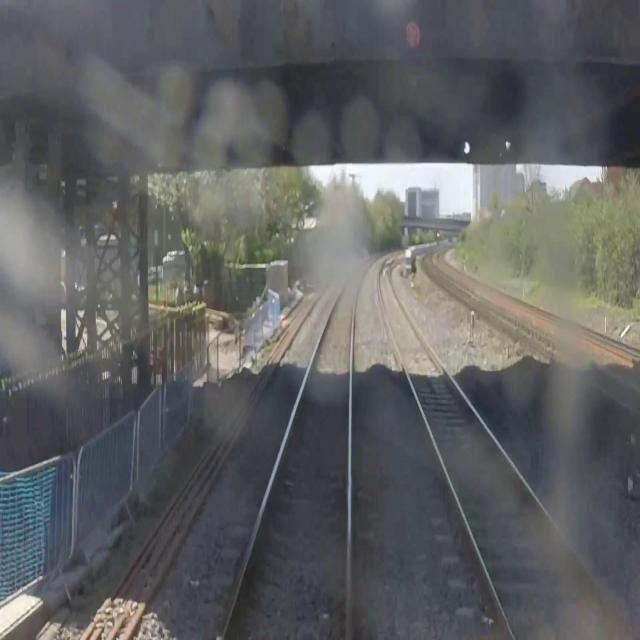rail-track: (379, 252, 619, 639), (224, 254, 381, 639), (424, 253, 639, 414)
